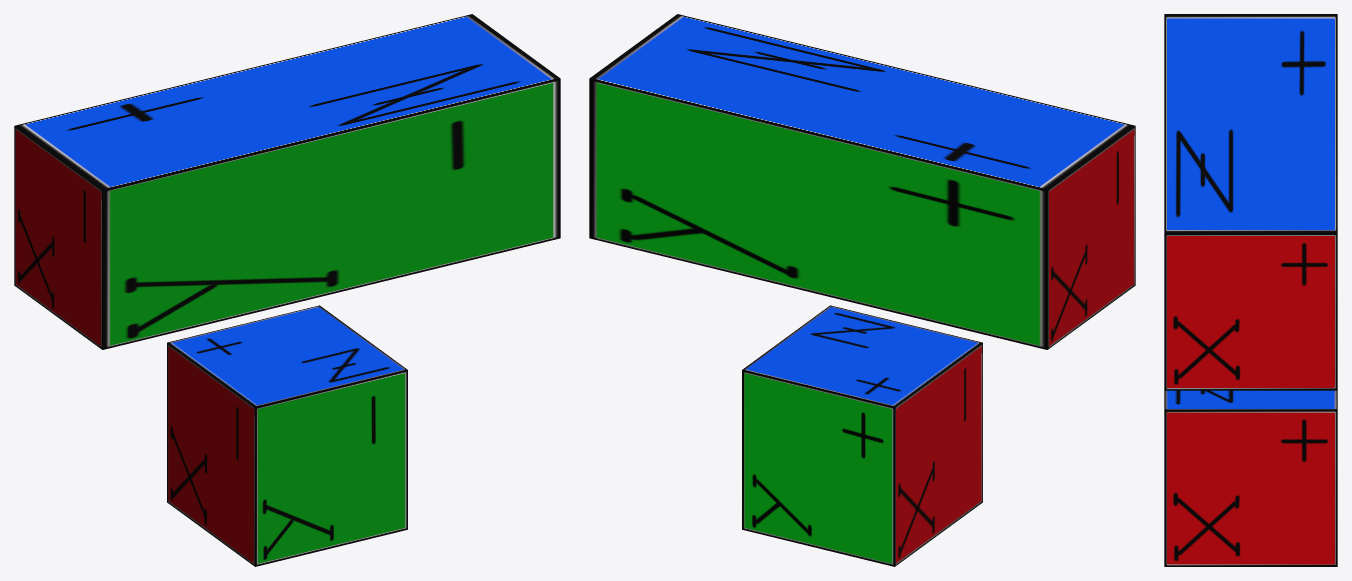
File: DoubleTestCube.fbx
3 views of the same model, side by side, from view 1: azimuth 30°, elevation 25°; view 2: azimuth 150°, elevation 25°; view 3: azimuth 270°, elevation 25° (orthographic).
Visible parts, largest first — view 1: Cube.001, Cube; view 2: Cube.001, Cube; view 3: Cube.001, Cube.
Boxes of the visible parts, x1,y1,x2,y2 form: Cube.001: [14, 14, 560, 349]; Cube: [167, 305, 407, 566]; Cube.001: [589, 14, 1135, 349]; Cube: [742, 305, 982, 566]; Cube.001: [1164, 14, 1337, 390]; Cube: [1164, 390, 1337, 566].
Bounding box in the file's own units: 600 × 200 × 518.
1 material, 1 textured.
